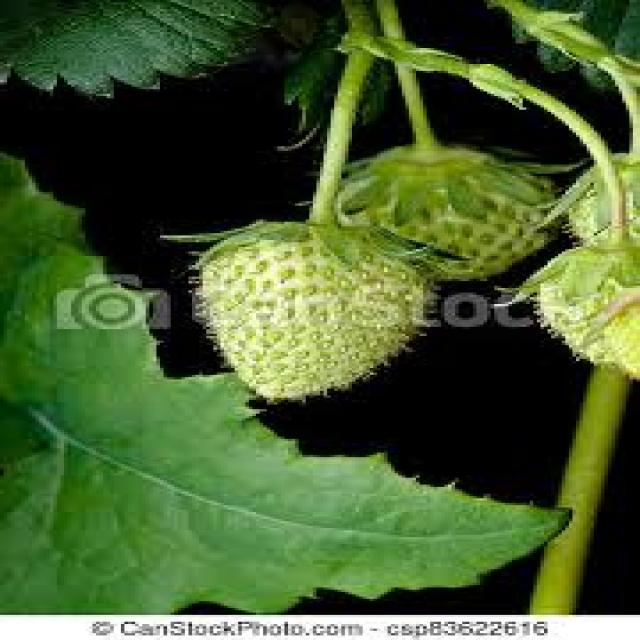immature: (200, 227, 424, 401), (337, 152, 554, 280), (537, 261, 640, 379)
